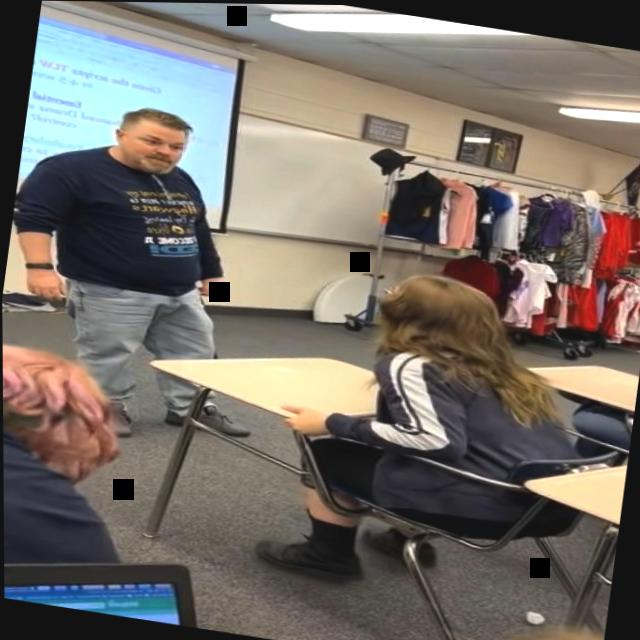NO-Mask: (112, 110, 191, 178)
